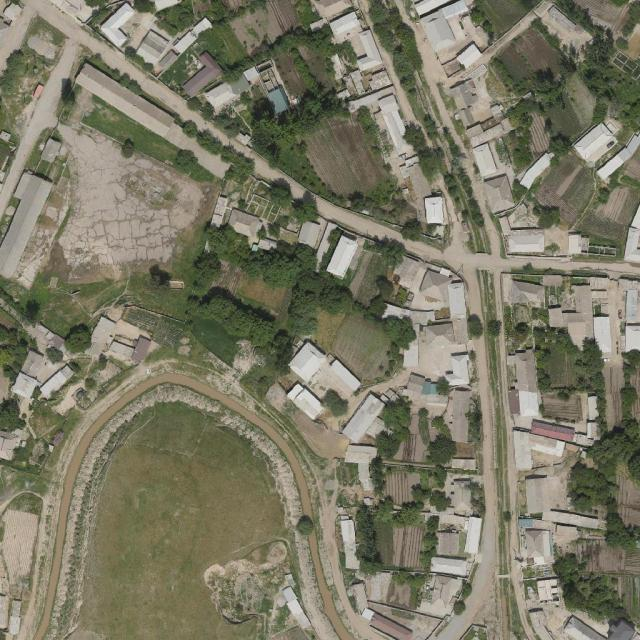agricultural_land: (77, 394, 302, 640), (296, 107, 389, 208), (256, 381, 354, 469), (531, 148, 606, 227), (539, 73, 609, 149), (529, 0, 593, 56), (510, 25, 568, 85), (471, 0, 539, 42), (375, 523, 423, 568), (348, 504, 381, 565), (577, 207, 628, 245), (495, 44, 536, 89), (242, 191, 282, 225), (384, 470, 421, 506), (243, 191, 282, 225), (233, 572, 265, 610), (528, 112, 551, 155)
building: (74, 61, 236, 180), (547, 285, 595, 349), (572, 115, 627, 168), (417, 568, 466, 623), (340, 391, 388, 446), (410, 268, 459, 320), (377, 93, 414, 157), (173, 51, 223, 98), (99, 2, 146, 49), (204, 69, 253, 113), (286, 339, 328, 382), (464, 112, 513, 148), (285, 380, 327, 421), (171, 16, 214, 56), (419, 9, 458, 53), (517, 148, 557, 190), (84, 315, 119, 361), (325, 234, 360, 279), (279, 584, 312, 631), (349, 29, 384, 72), (37, 363, 76, 401), (482, 173, 516, 214), (225, 207, 265, 241), (541, 507, 599, 530), (326, 11, 364, 45), (328, 356, 363, 392), (339, 515, 361, 570), (529, 418, 576, 443), (521, 529, 554, 564), (448, 78, 482, 111), (508, 280, 547, 308), (524, 473, 550, 514), (9, 370, 42, 402), (507, 228, 546, 254), (471, 142, 499, 178), (451, 390, 470, 442), (444, 351, 470, 387), (512, 429, 533, 471), (423, 320, 455, 346), (346, 581, 371, 614), (455, 42, 484, 70), (447, 281, 468, 319), (463, 516, 483, 555), (312, 0, 351, 20), (430, 556, 468, 576), (210, 194, 230, 228), (594, 315, 611, 354), (39, 138, 63, 165), (454, 486, 475, 516), (365, 68, 391, 92), (345, 445, 378, 463), (108, 338, 136, 359), (415, 1, 452, 16), (8, 599, 23, 636), (537, 579, 560, 603), (519, 390, 538, 416), (426, 197, 443, 224), (571, 431, 594, 450), (380, 387, 400, 408), (457, 106, 476, 128), (242, 65, 262, 85), (464, 123, 484, 140), (0, 594, 10, 628), (404, 345, 419, 367), (586, 396, 599, 421), (451, 457, 477, 469), (422, 379, 438, 394), (585, 422, 598, 439), (517, 517, 535, 529)
dryland: (2, 116, 212, 318), (349, 504, 380, 565), (108, 338, 136, 359)
greenland: (245, 83, 350, 201), (532, 321, 610, 433), (0, 14, 74, 126), (80, 95, 185, 167), (194, 288, 282, 351), (586, 408, 640, 481), (559, 460, 620, 520), (185, 311, 247, 366), (243, 242, 317, 287), (194, 17, 249, 75), (154, 0, 231, 39), (284, 268, 326, 338), (296, 38, 338, 93), (375, 399, 410, 459), (271, 49, 310, 101), (0, 325, 35, 382), (23, 398, 64, 439), (210, 104, 250, 145), (132, 27, 171, 67), (365, 174, 405, 212), (370, 234, 409, 270), (546, 349, 576, 388), (150, 319, 184, 352), (194, 251, 221, 291), (90, 357, 123, 387), (265, 85, 293, 115), (344, 188, 373, 216), (292, 194, 319, 223), (66, 324, 91, 354), (269, 178, 294, 208), (294, 513, 319, 538), (401, 219, 423, 241), (24, 481, 30, 488)
unmetalled_road: (0, 36, 91, 222), (71, 23, 210, 130), (309, 196, 406, 250), (478, 10, 540, 63), (470, 268, 505, 322), (402, 237, 446, 264), (505, 254, 574, 268), (253, 160, 280, 184), (281, 177, 306, 198), (536, 2, 552, 10)
